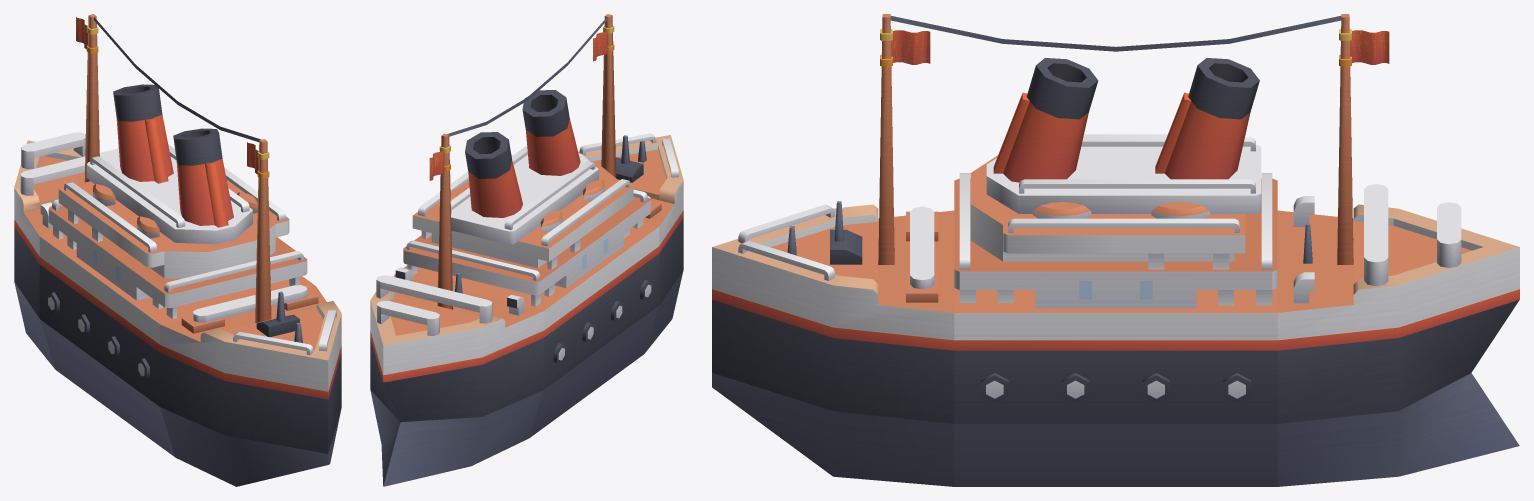
File: ship-ocean-liner-small.glb
The picture shows the model from 3 angles, left to right: view 1: azimuth 30°, elevation 25°; view 2: azimuth 150°, elevation 25°; view 3: azimuth 270°, elevation 25°; orthographic projection. The views are drawn at different scales.
Visible parts, largest first — view 1: ship-ocean-liner-small; view 2: ship-ocean-liner-small; view 3: ship-ocean-liner-small.
Part boxes in pixels (bbox=[...]): ship-ocean-liner-small: bbox=[14, 14, 341, 486]; ship-ocean-liner-small: bbox=[370, 14, 683, 486]; ship-ocean-liner-small: bbox=[712, 14, 1519, 486].
Bounding box in the file's own units: 4.76 × 8.93 × 15.2.
1 material, 1 textured.
